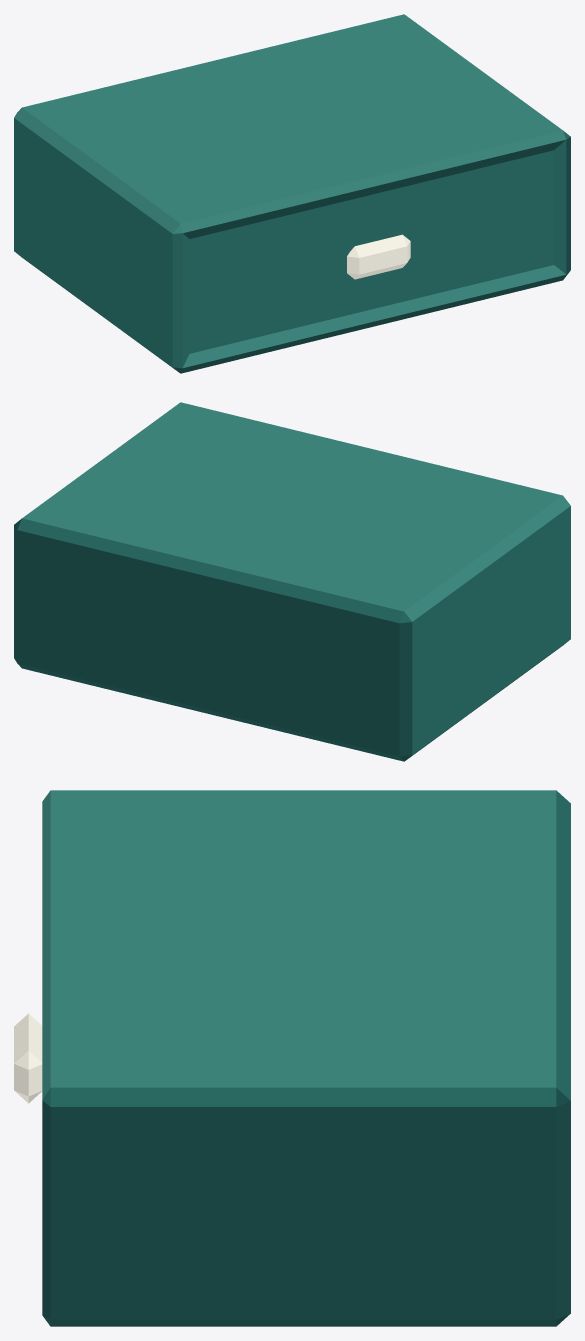
File: Door_LintelLit.gltf
3 renders of one model, top to bottom at view 1: azimuth 30°, elevation 25°; view 2: azimuth 150°, elevation 25°; view 3: azimuth 270°, elevation 25°, orthographic. The views are drawn at different scales.
Parts seen in each view (by area): view 1: Door_LintelLit_baked; view 2: Door_LintelLit_baked; view 3: Door_LintelLit_baked.
Boxes of the visible parts, x1,y1,x2,y2 form: Door_LintelLit_baked: [14, 14, 570, 373]; Door_LintelLit_baked: [14, 402, 570, 761]; Door_LintelLit_baked: [14, 790, 570, 1326].
Bounding box in the file's own units: 1 × 0.36 × 0.76.
